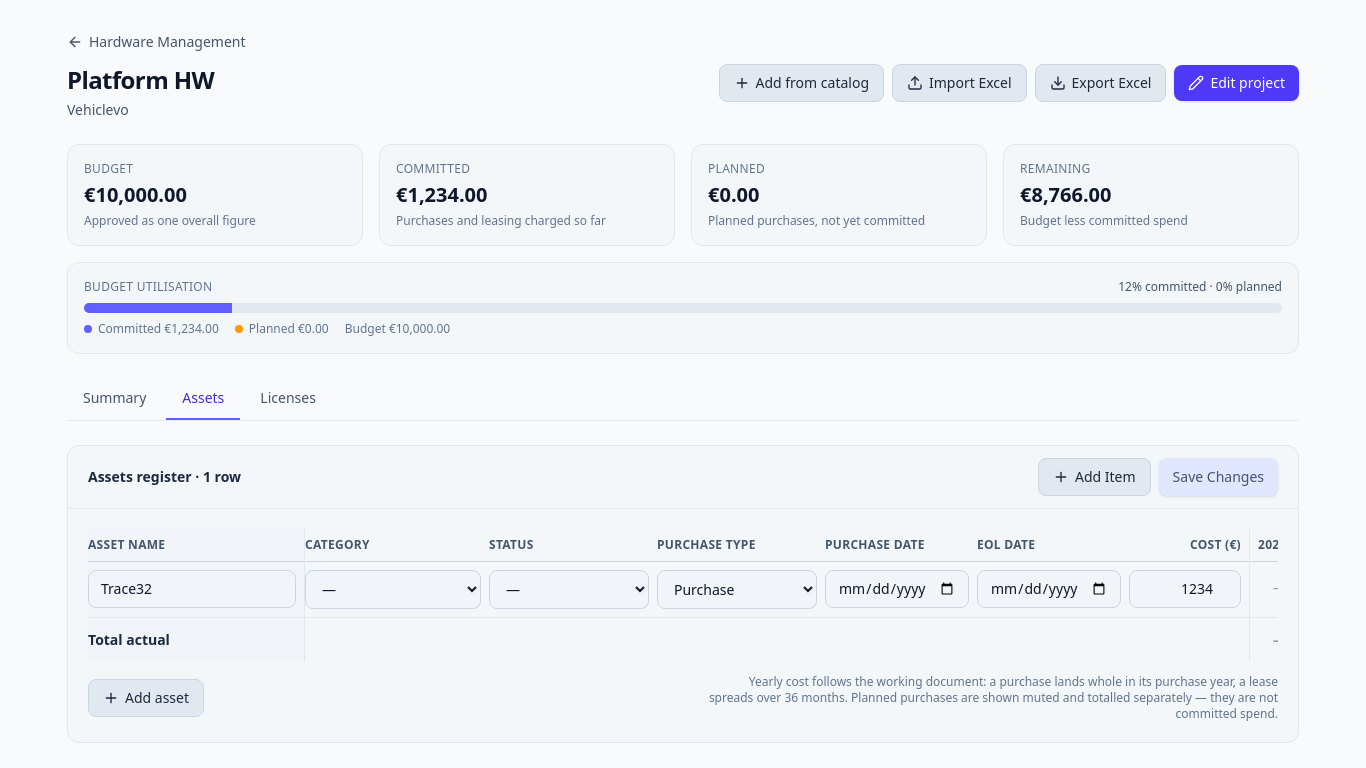
HwProjectPage › saves the assets register with the version it was loaded at
Replace the text in the field showing "Trace32" with "Trace32 Pro": {"x": 192, "y": 589} [88,570,296,608]
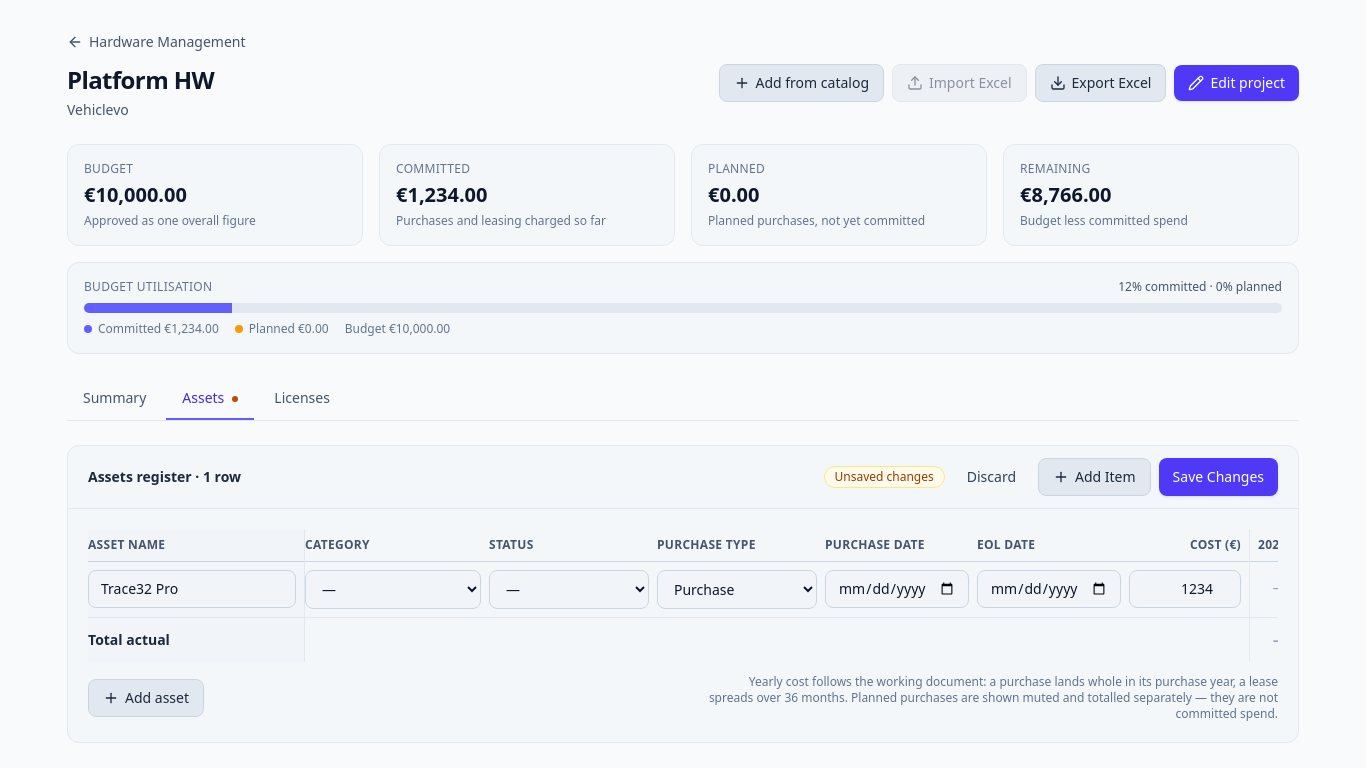
Result: the text "Unsaved changes" is shown at [824,466,945,488]
Click the button "Save Changes": {"x": 1218, "y": 477} [1159,458,1278,496]
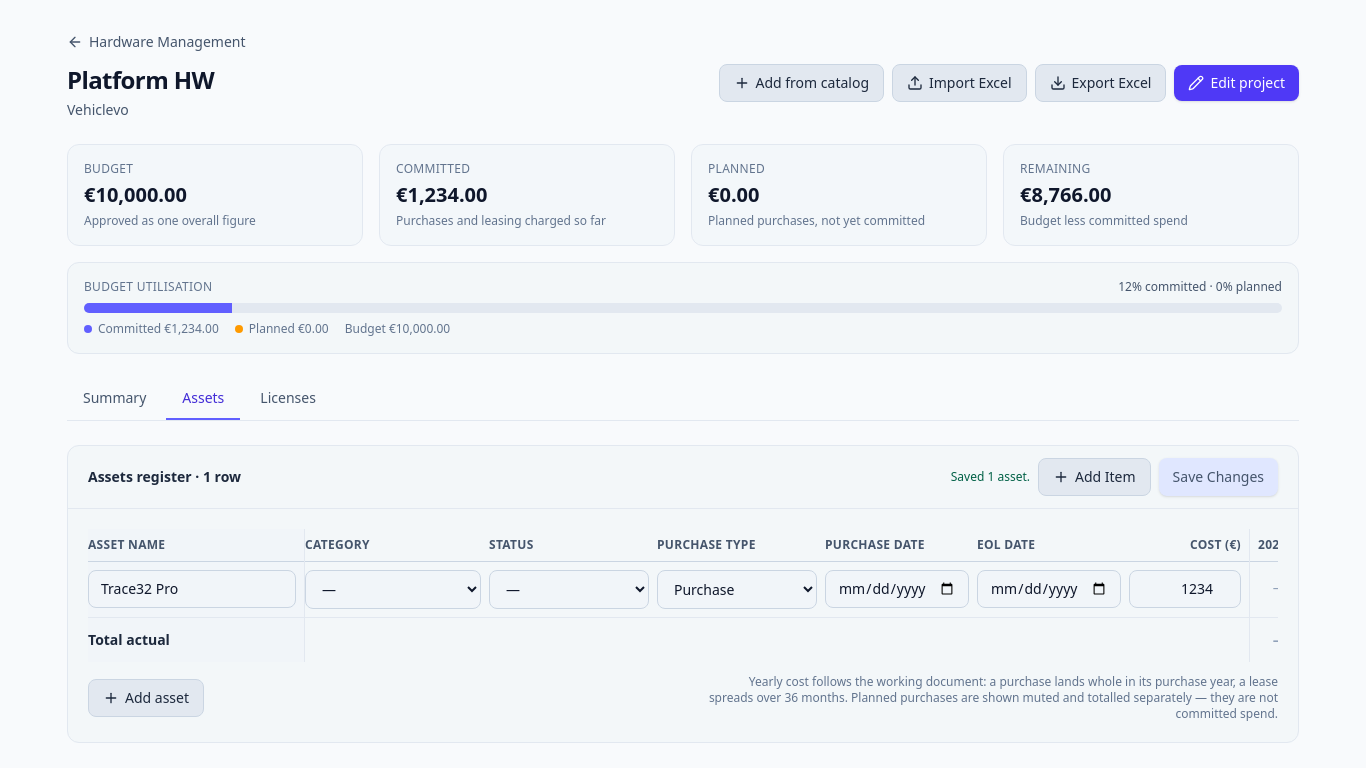
Result: the text "Saved 1 asset." is shown at [951,469,1030,485]
